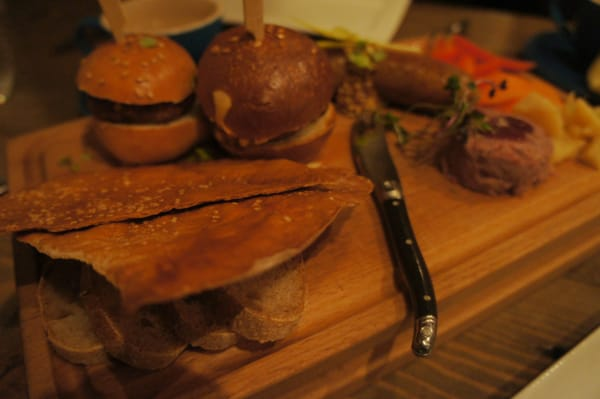sandwich: (350, 111, 440, 358)
soup: (195, 24, 347, 162)
